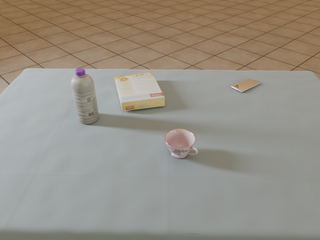bottle: (71, 68, 99, 124)
box: (115, 72, 164, 111)
cup: (165, 129, 198, 158)
phone: (231, 79, 260, 92)
